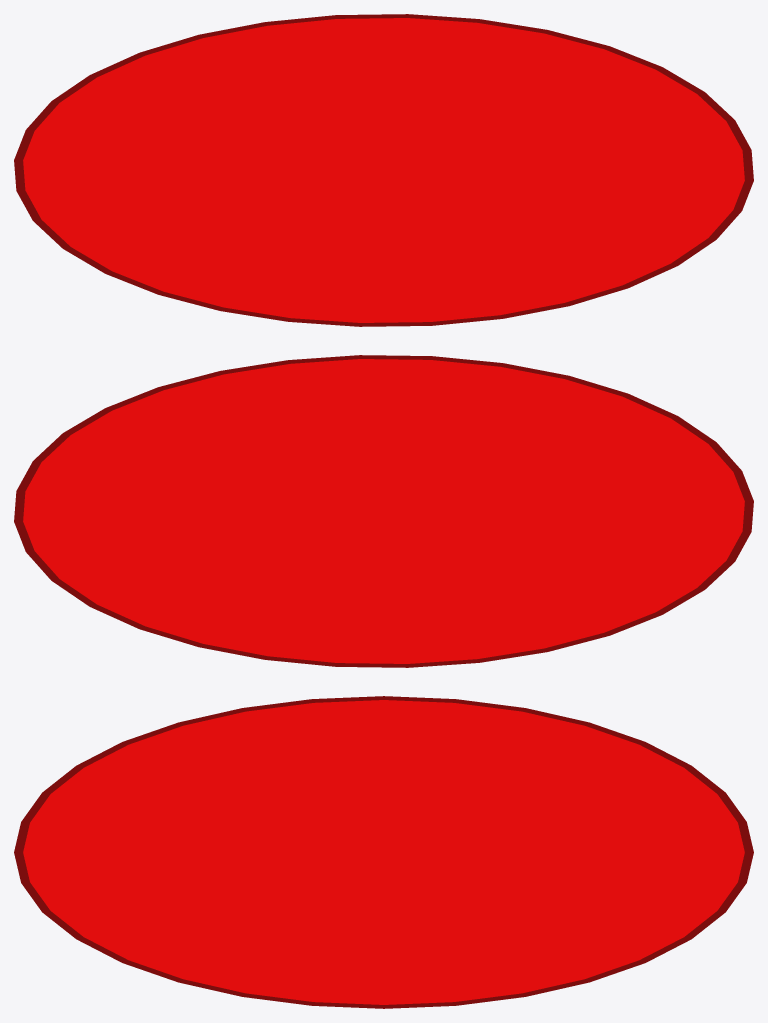
Rendered from AttackArea1.0.fbx.
3 views of the same model, one above another, from view 1: azimuth 30°, elevation 25°; view 2: azimuth 150°, elevation 25°; view 3: azimuth 270°, elevation 25° (orthographic).
Parts seen in each view (by area): view 1: Circle; view 2: Circle; view 3: Circle.
Part boxes in pixels (left/top/right/bottom): Circle: left=14, top=14, right=753, bottom=326; Circle: left=14, top=355, right=753, bottom=667; Circle: left=14, top=696, right=753, bottom=1008.
Bounding box in the file's own units: 1000 × 0.000163 × 1000.
